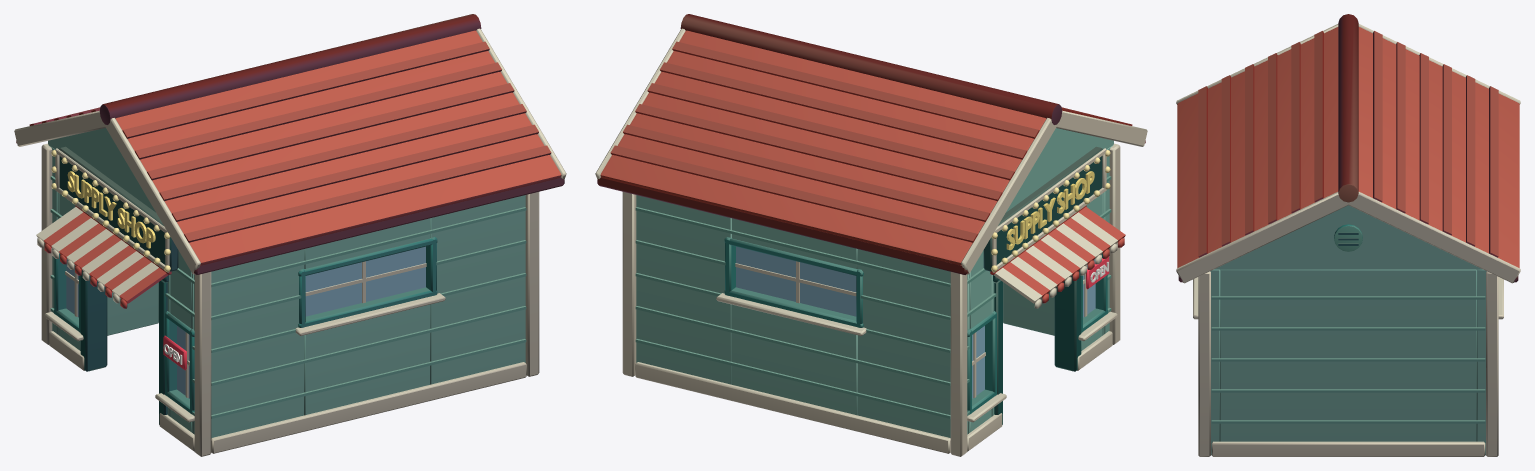
Rendered from Shop.fbx.
3 views of the same model, side by side, from view 1: azimuth 30°, elevation 25°; view 2: azimuth 150°, elevation 25°; view 3: azimuth 270°, elevation 25° (orthographic). The views are drawn at different scales.
Parts seen in each view (by area): view 1: SM_Bld_Shop_Roof, SM_Bld_Shop_Walls, SM_Bld_Shop_Trim, SM_Bld_Shop_Awning, SM_Bld_Shop_Glass, SM_Bld_Shop_Sign, SM_Bld_Shop_Glow; view 2: SM_Bld_Shop_Roof, SM_Bld_Shop_Walls, SM_Bld_Shop_Trim, SM_Bld_Shop_Awning, SM_Bld_Shop_Glass, SM_Bld_Shop_Sign, SM_Bld_Shop_Glow; view 3: SM_Bld_Shop_Roof, SM_Bld_Shop_Walls, SM_Bld_Shop_Trim.
Boxes of the visible parts, box(x1,y1,x2,y2) form: SM_Bld_Shop_Roof: box(16, 14, 564, 274); SM_Bld_Shop_Walls: box(48, 128, 526, 437); SM_Bld_Shop_Trim: box(14, 28, 566, 456); SM_Bld_Shop_Awning: box(36, 205, 171, 308); SM_Bld_Shop_Glass: box(66, 246, 425, 398); SM_Bld_Shop_Sign: box(55, 146, 178, 272); SM_Bld_Shop_Glow: box(51, 150, 170, 271); SM_Bld_Shop_Roof: box(597, 14, 1145, 274); SM_Bld_Shop_Walls: box(635, 128, 1113, 437); SM_Bld_Shop_Trim: box(595, 28, 1147, 456); SM_Bld_Shop_Awning: box(990, 205, 1125, 308); SM_Bld_Shop_Glass: box(736, 246, 1095, 398); SM_Bld_Shop_Sign: box(983, 146, 1106, 272); SM_Bld_Shop_Glow: box(991, 150, 1110, 271); SM_Bld_Shop_Roof: box(1177, 14, 1519, 282); SM_Bld_Shop_Walls: box(1210, 205, 1486, 455); SM_Bld_Shop_Trim: box(1176, 24, 1520, 456).
Bounding box in the file's own units: 25.15 × 18.13 × 20.16.
